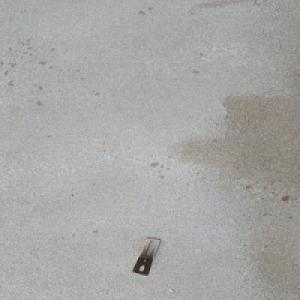MetalPart: (130, 236, 161, 276)
